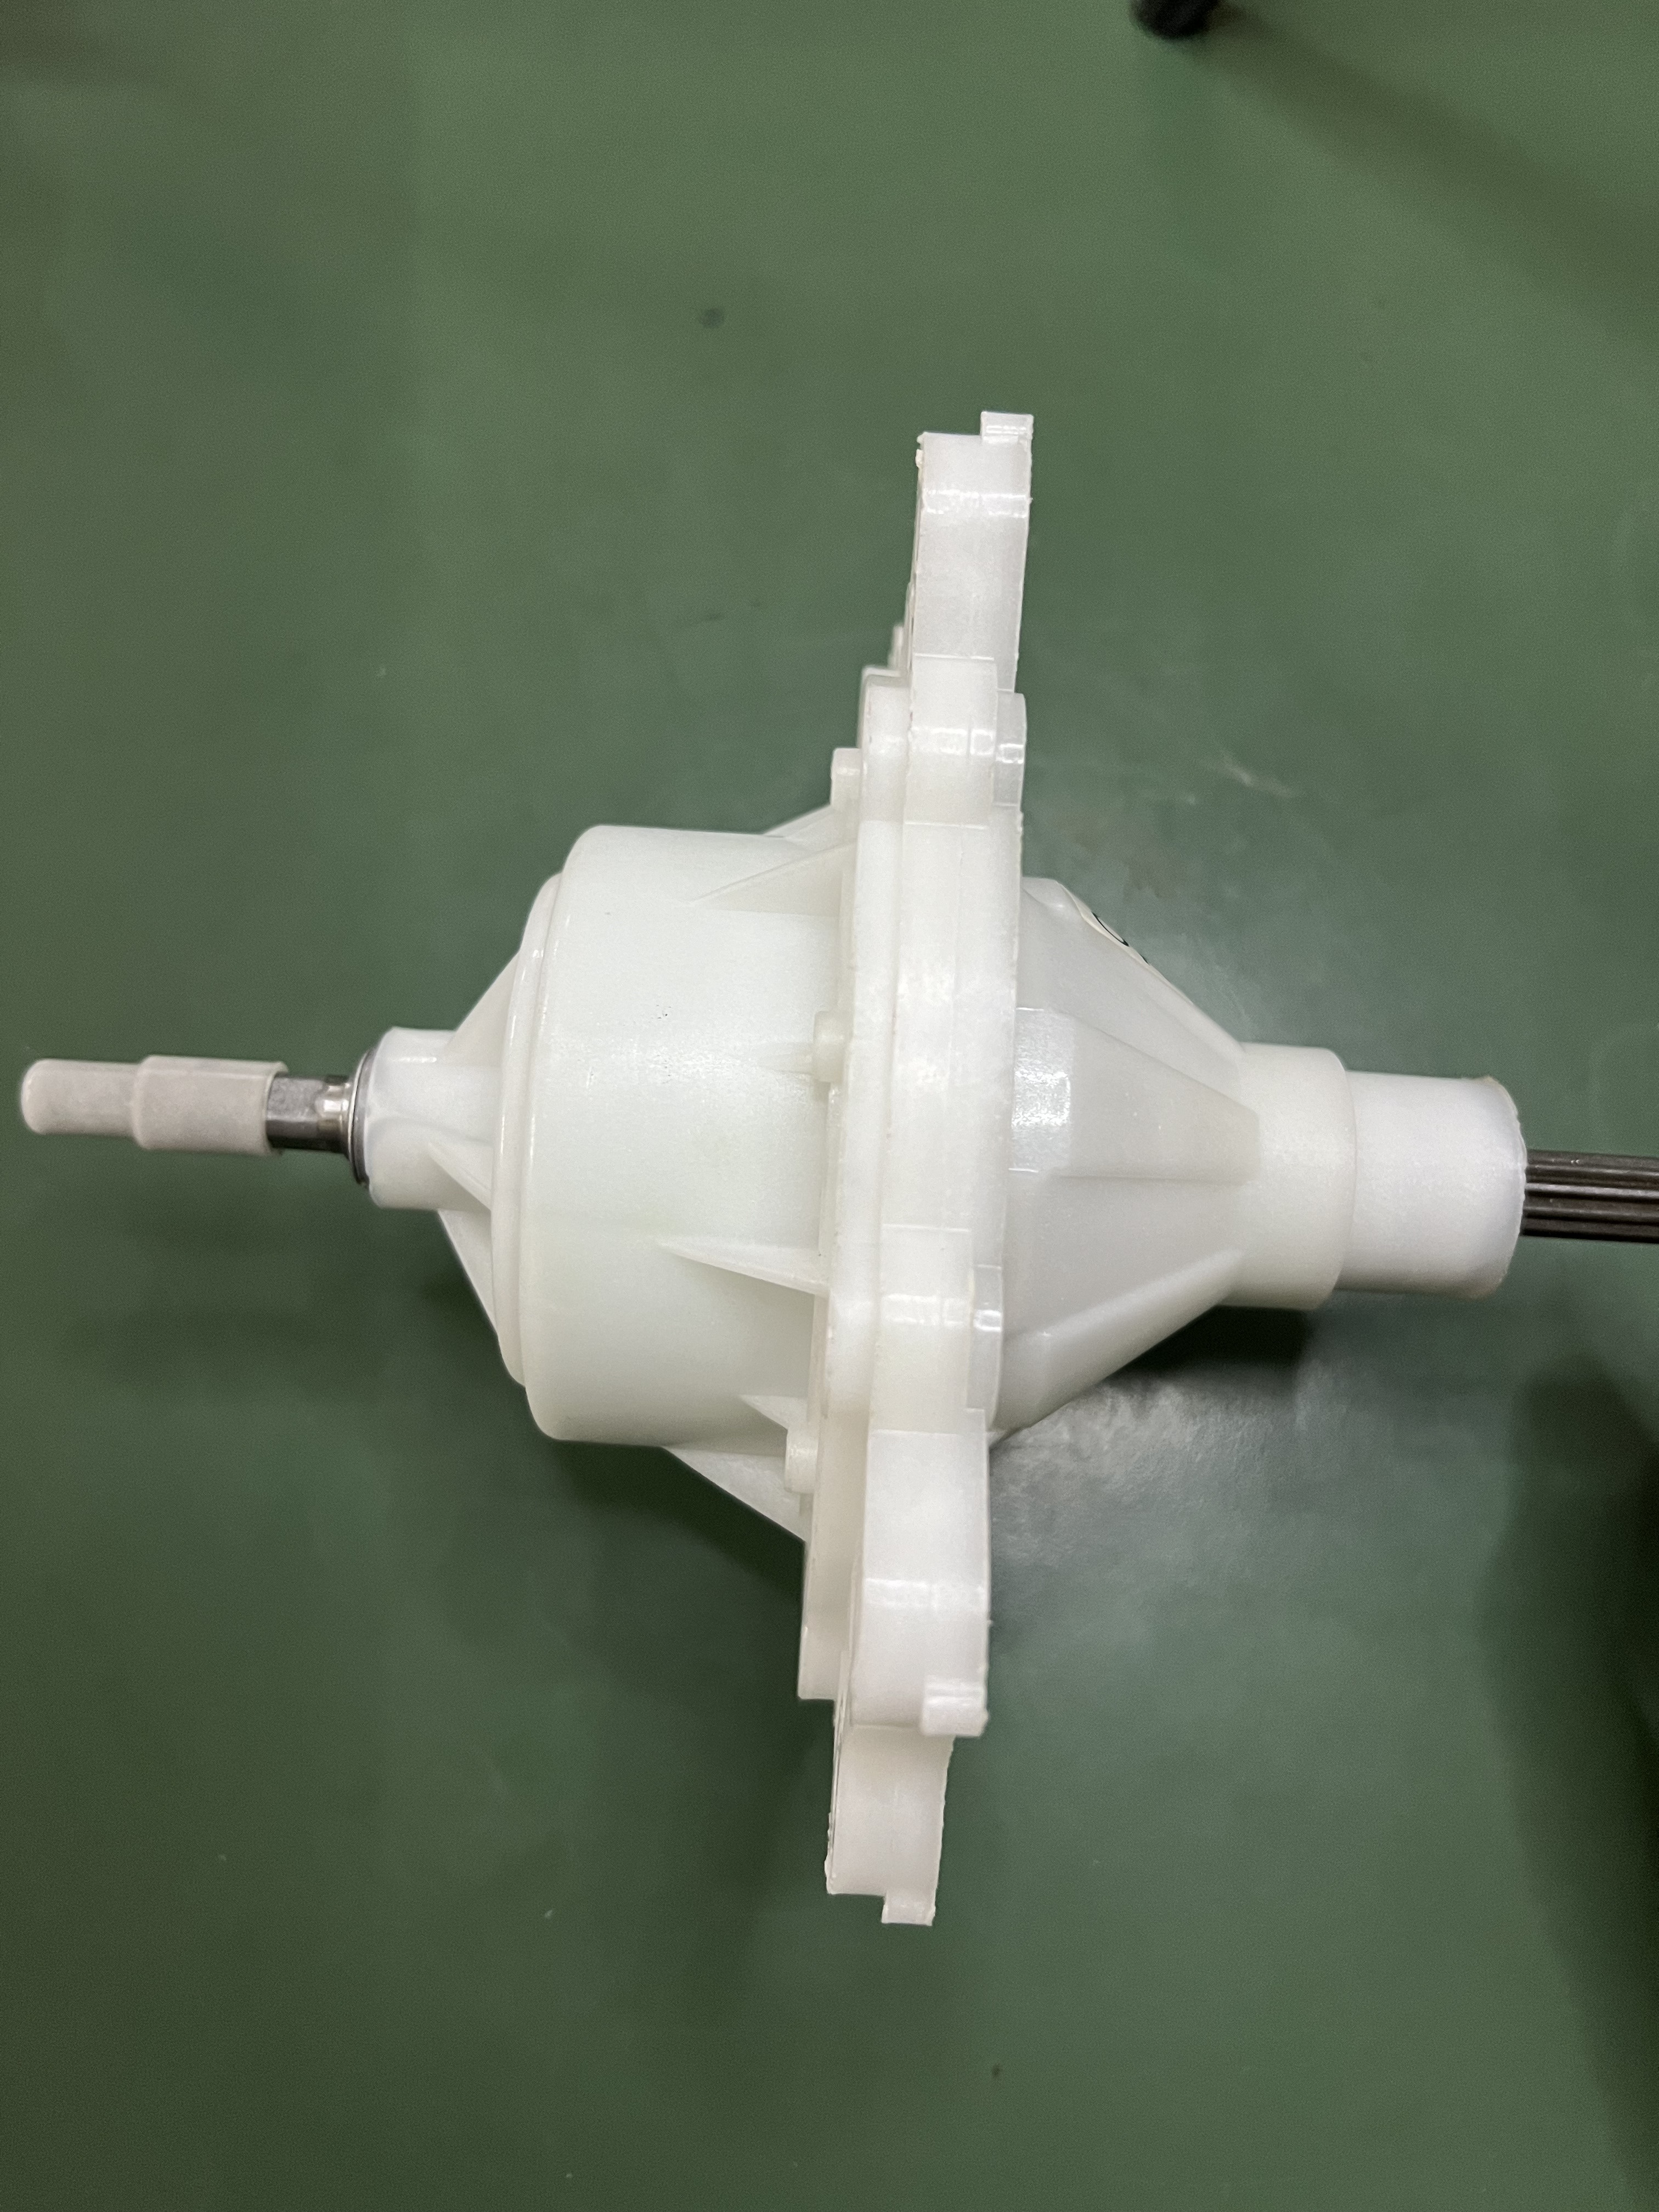gear_box_design: (14, 441, 1659, 1939)
